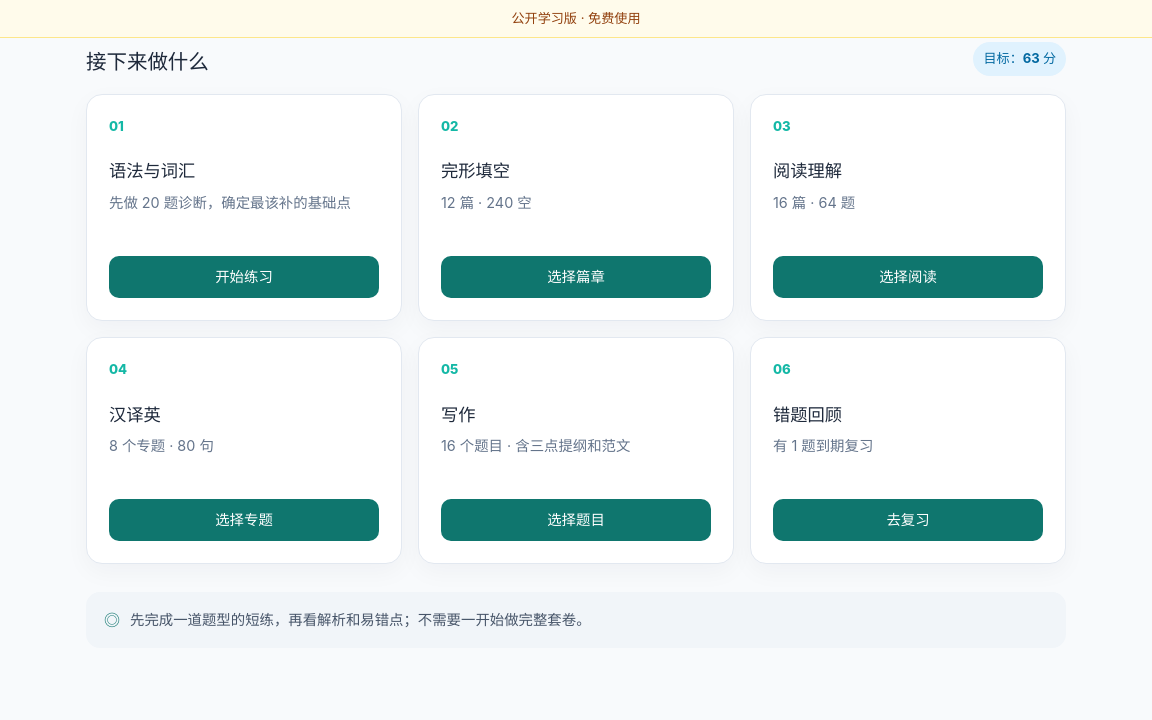
Test: App › opens due questions as a review session
(page scrolled)
Click the button "去复习": (908, 520) left=773, top=499, right=1043, bottom=541
(page scrolled)
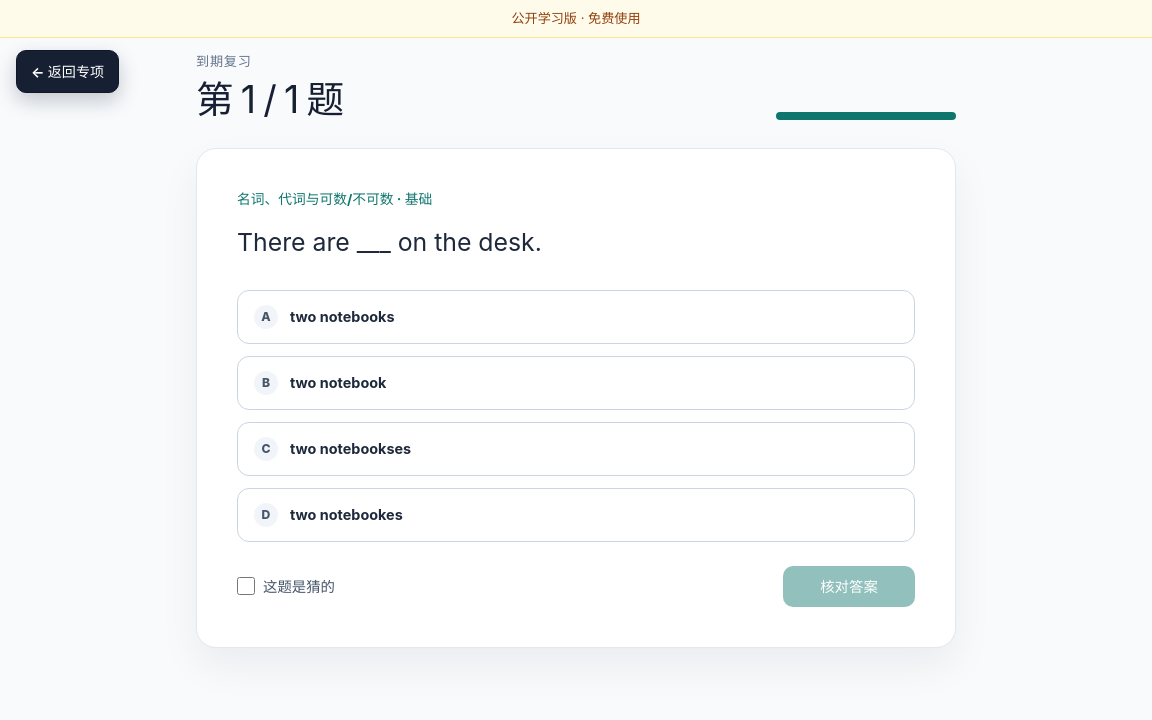
Expected: the text "到期复习" is shown, left=196, top=53, right=252, bottom=69
Expected: the heading "第 1 / 1 题" is shown, left=196, top=80, right=342, bottom=120
